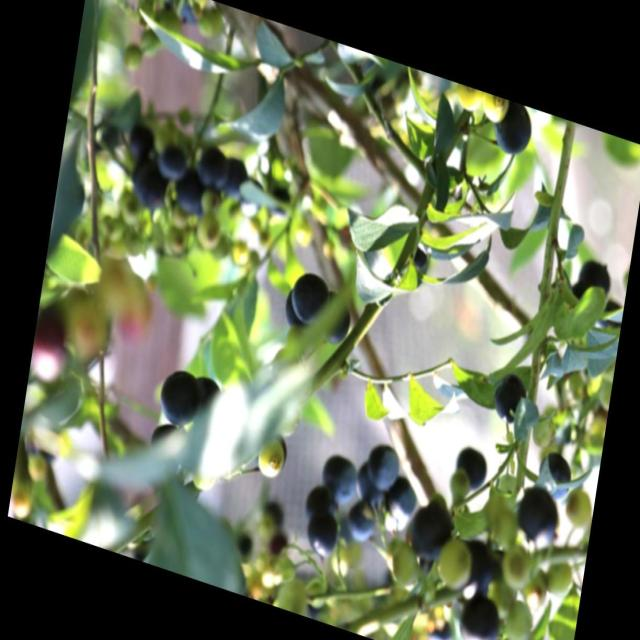blueberry: (484, 365, 540, 432), (509, 484, 561, 554), (157, 362, 203, 432), (408, 499, 453, 568), (317, 446, 360, 511), (289, 267, 332, 331), (532, 443, 576, 505), (492, 97, 534, 161), (319, 290, 356, 352), (454, 595, 502, 639), (452, 442, 490, 492), (305, 512, 340, 564), (170, 167, 203, 218), (366, 443, 399, 491), (197, 146, 230, 194), (136, 161, 166, 213), (388, 480, 422, 524), (345, 499, 377, 543)
blueberry-unripe: (435, 532, 475, 594), (381, 537, 421, 590), (253, 430, 288, 485), (542, 554, 576, 604), (498, 541, 532, 590), (490, 466, 525, 512), (520, 569, 553, 615), (500, 596, 534, 639), (564, 484, 592, 531), (453, 82, 483, 120), (478, 90, 508, 127), (502, 625, 544, 639)
